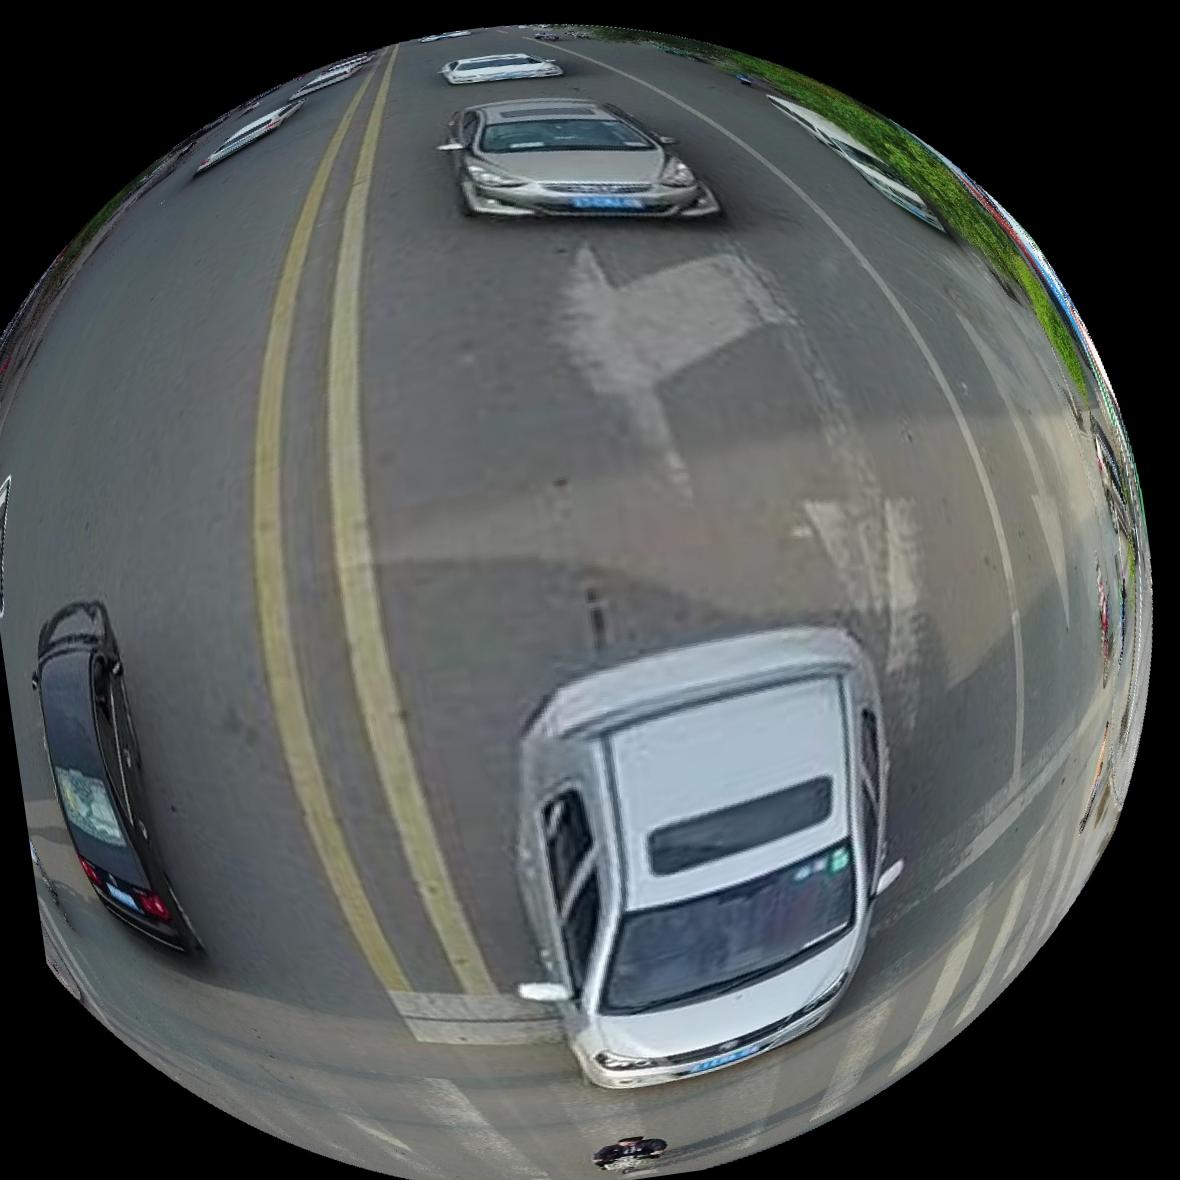cars: (518, 627, 897, 1090), (32, 602, 197, 953), (440, 96, 721, 217), (769, 94, 944, 230), (195, 83, 319, 173), (287, 52, 374, 100), (440, 51, 563, 83)
